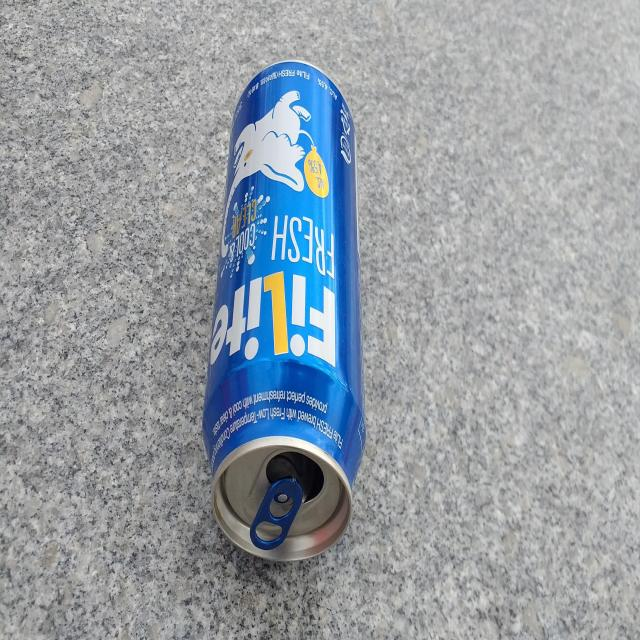can: (202, 60, 366, 561)
